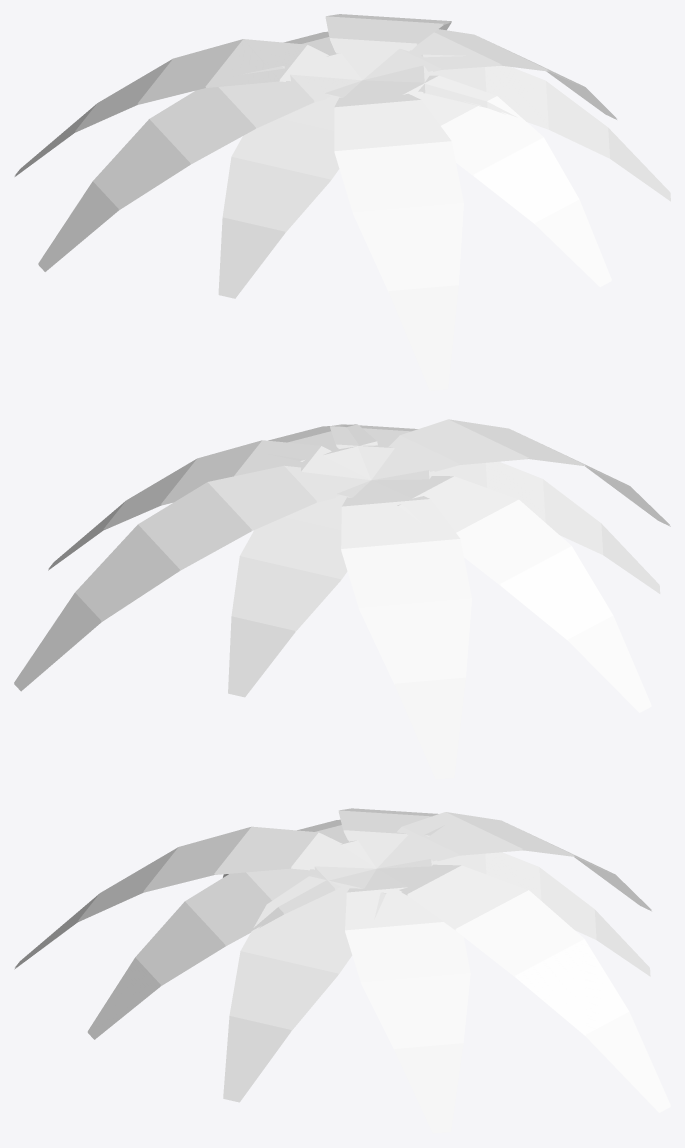
File: palm_leaves.glb
3 renders of one model, top to bottom at view 1: azimuth 30°, elevation 25°; view 2: azimuth 150°, elevation 25°; view 3: azimuth 270°, elevation 25°, orthographic. The views are drawn at different scales.
Parts seen in each view (by area): view 1: PalmLeaves; view 2: PalmLeaves; view 3: PalmLeaves.
Boxes of the visible parts, x1,y1,x2,y2 form: PalmLeaves: (14, 14, 670, 390); PalmLeaves: (14, 419, 670, 779); PalmLeaves: (14, 808, 670, 1133).
Size of the model in its own units: 6.05 by 1.59 by 6.01.
Materials: 1 (1 with a texture image).
